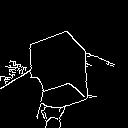cube: (21, 28, 99, 109)
